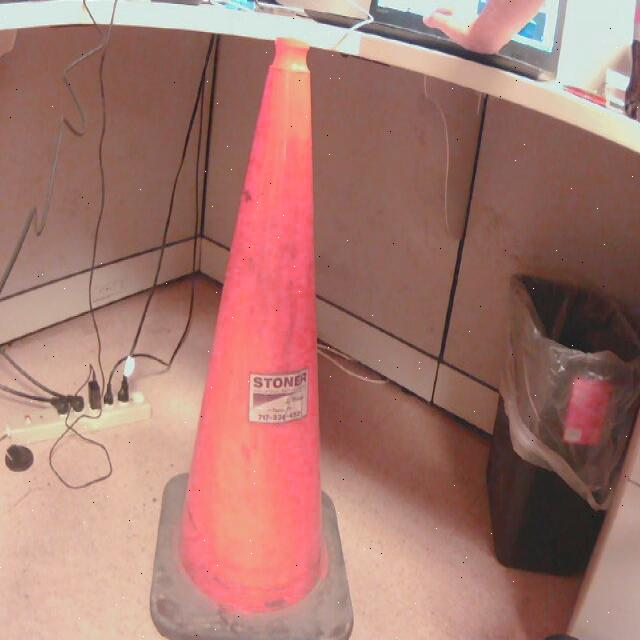traffic cone: (150, 41, 356, 640)
